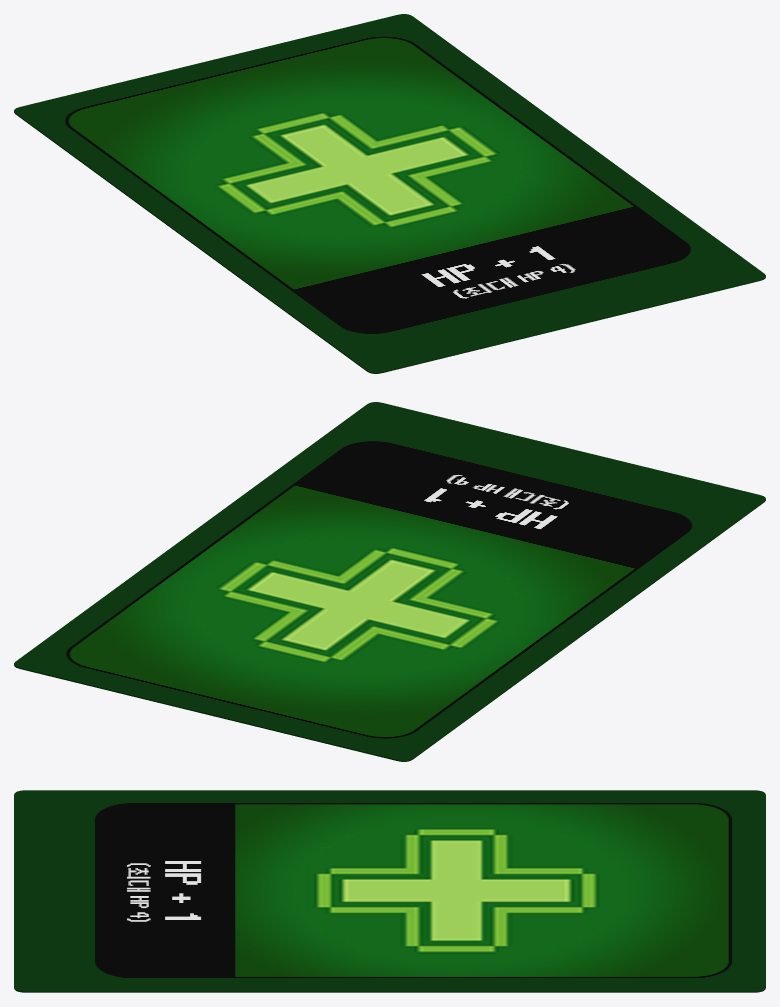
File: HP+1 Card.fbx
The picture shows the model from 3 angles, top to bottom: view 1: azimuth 30°, elevation 25°; view 2: azimuth 150°, elevation 25°; view 3: azimuth 270°, elevation 25°; orthographic projection. The views are drawn at different scales.
Parts seen in each view (by area): view 1: Box001; view 2: Box001; view 3: Box001.
Part boxes in pixels (left/top/right/bottom): Box001: left=14, top=14, right=765, bottom=373; Box001: left=14, top=402, right=765, bottom=761; Box001: left=14, top=790, right=765, bottom=992.
Bounding box in the file's own units: 74.8 × 0.1969 × 118.
